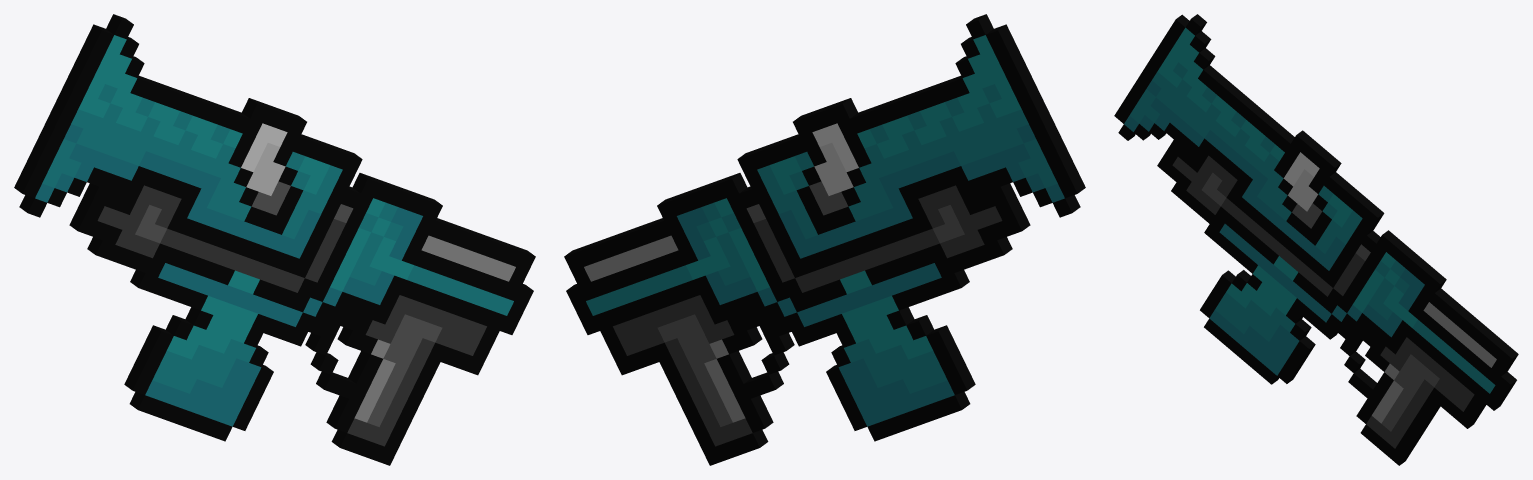
Rendered from Cyan Heavy Paintball Gun.glb.
The picture shows the model from 3 angles, left to right: view 1: azimuth 30°, elevation 25°; view 2: azimuth 150°, elevation 25°; view 3: azimuth 330°, elevation 25°; orthographic projection. The views are drawn at different scales.
Visible parts, largest first — view 1: Untitled; view 2: Untitled; view 3: Untitled.
Part boxes in pixels (x1,y1,x2,y2): Untitled: [14, 14, 535, 465]; Untitled: [564, 14, 1085, 465]; Untitled: [1114, 14, 1518, 465].
Size of the model in its own units: 14.22 by 13.53 by 0.4.
Materials: 1 (1 with a texture image).
